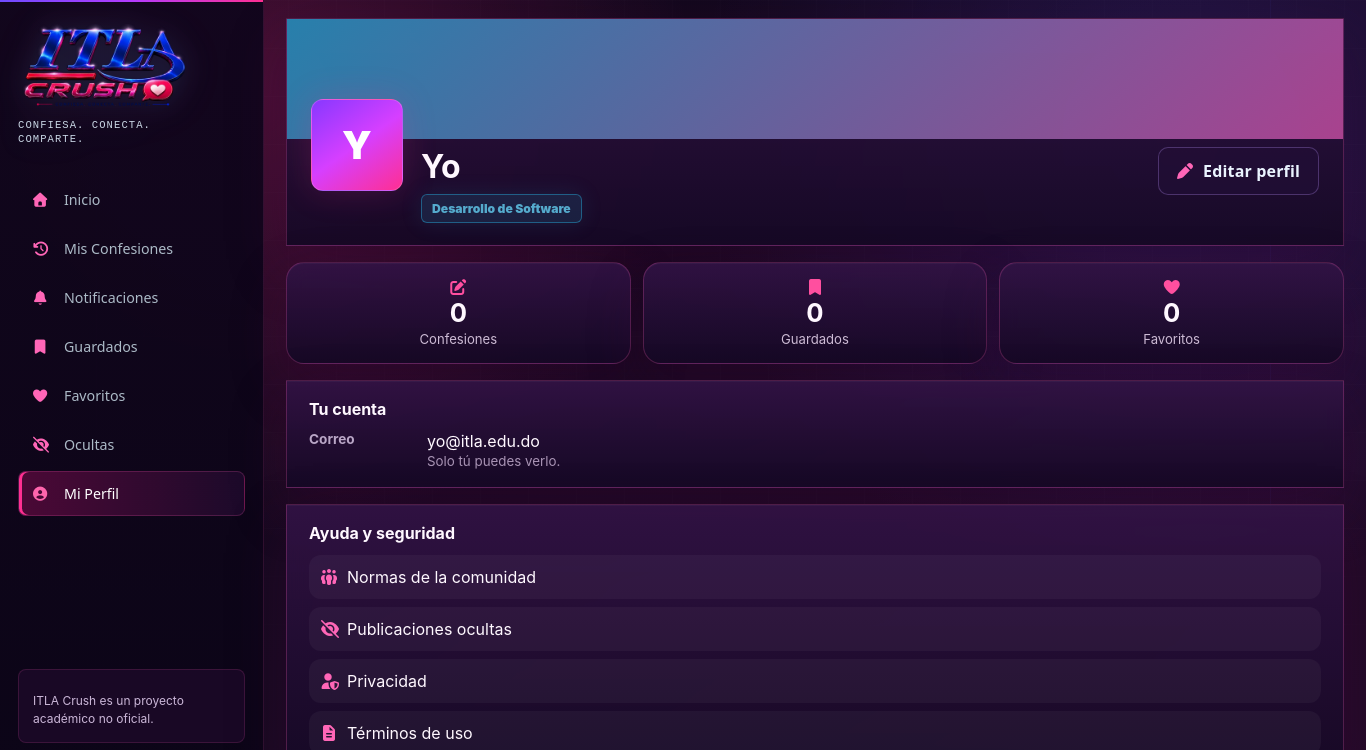
Scenario: fase 2: perfil › muestra el error si no se puede guardar y permite cancelar
Click the button "Editar perfil" at x=1239, y=171, box [1158,147,1319,195]
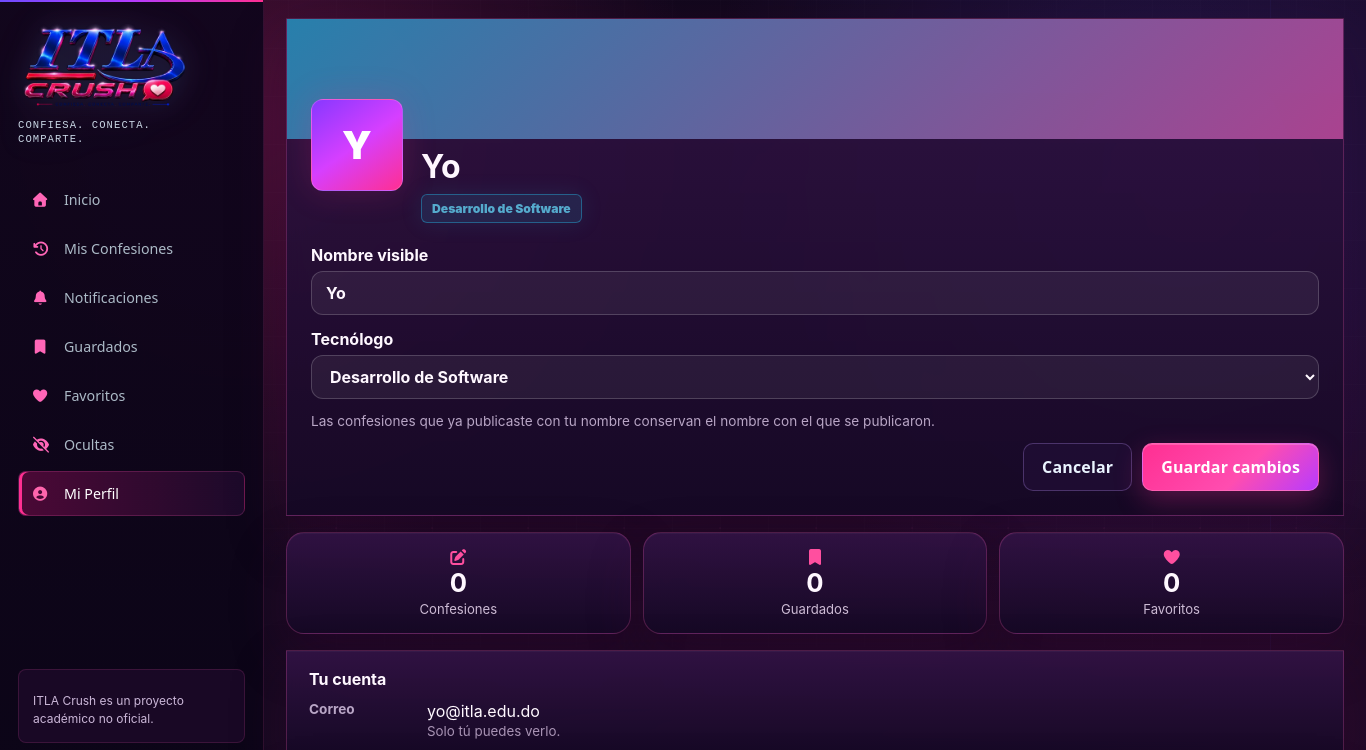
Click the button "Guardar cambios" at x=1231, y=467, box [1142,443,1319,491]
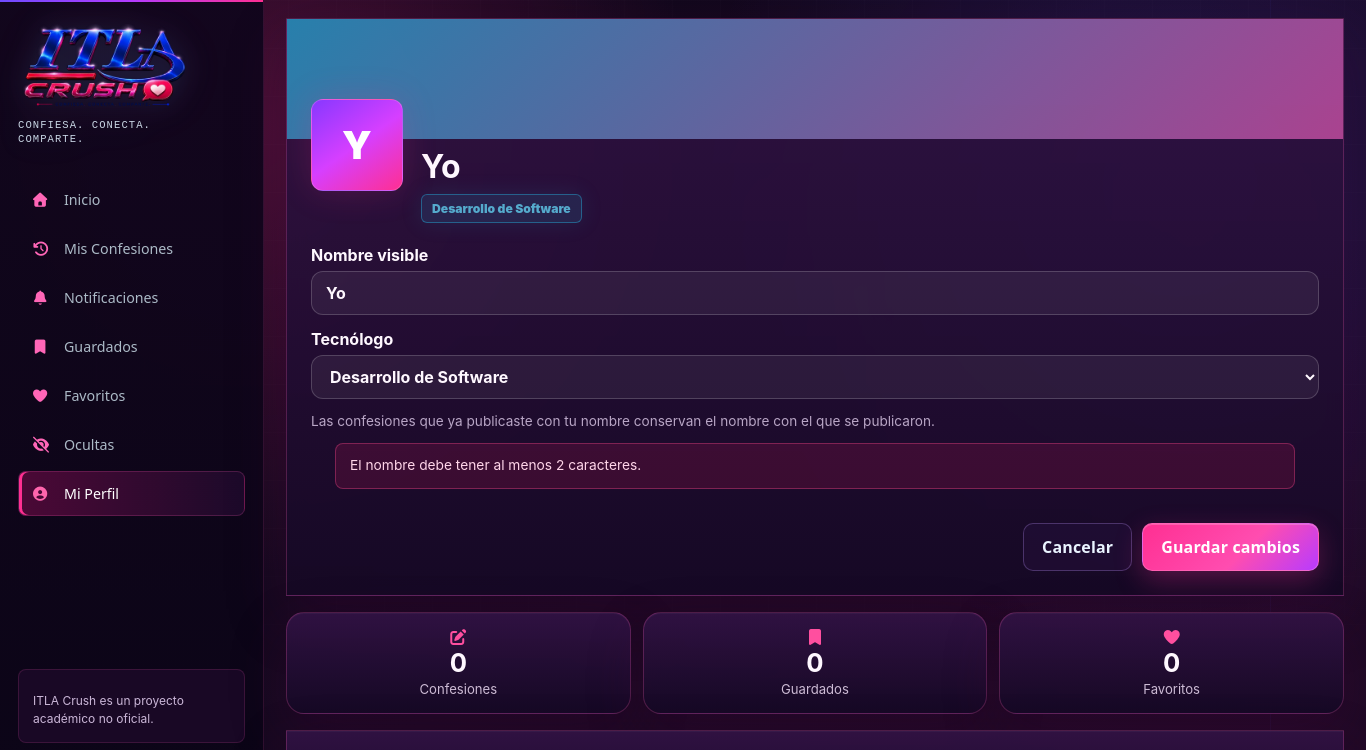
Result: the message shows "al menos 2 caracteres" at [350,457,641,473]
Click the button "Cancelar" at x=1078, y=547, box [1023,523,1132,571]
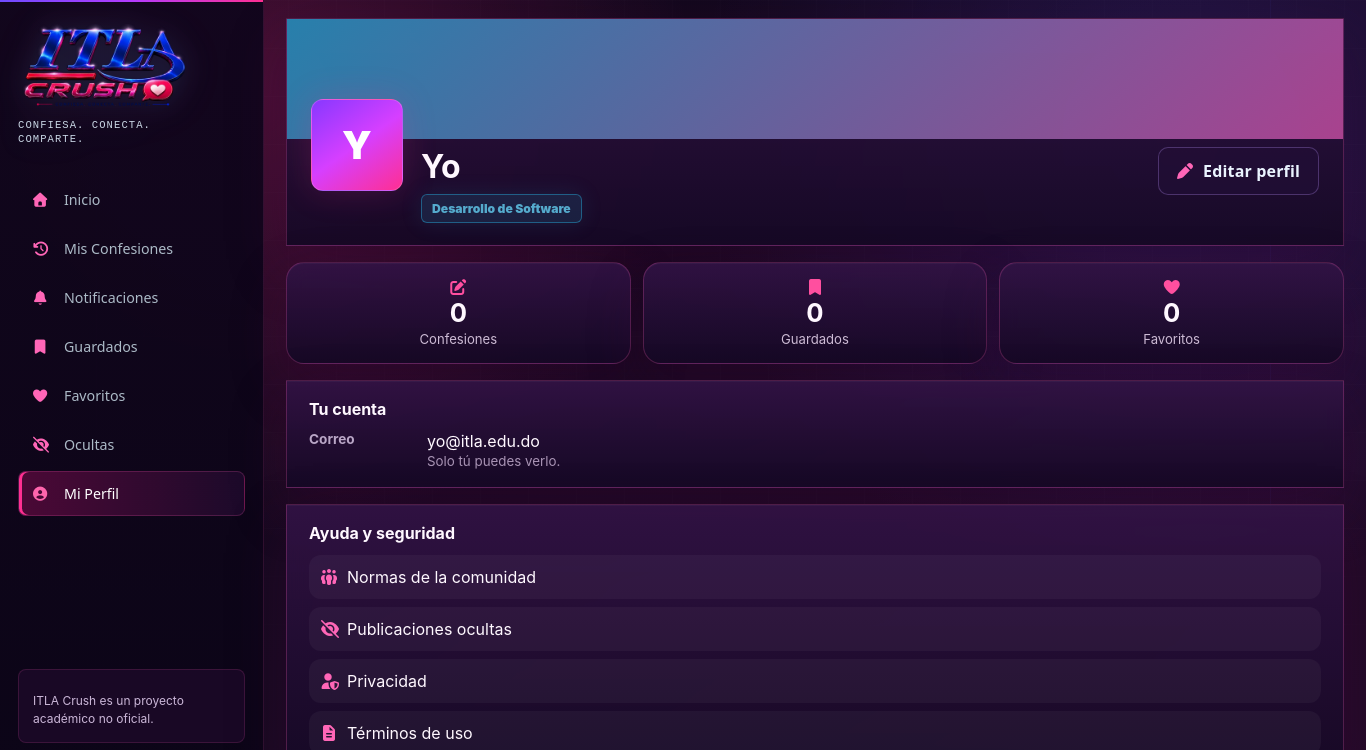
Result: the button "Guardar cambios" is gone
